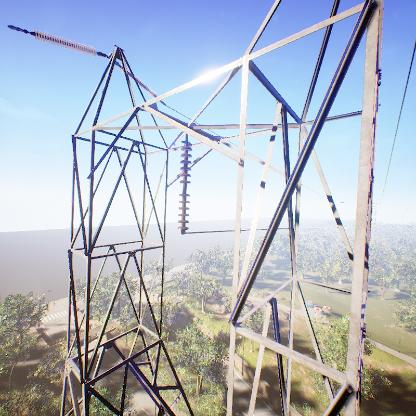insulator: (175, 144, 194, 231)
